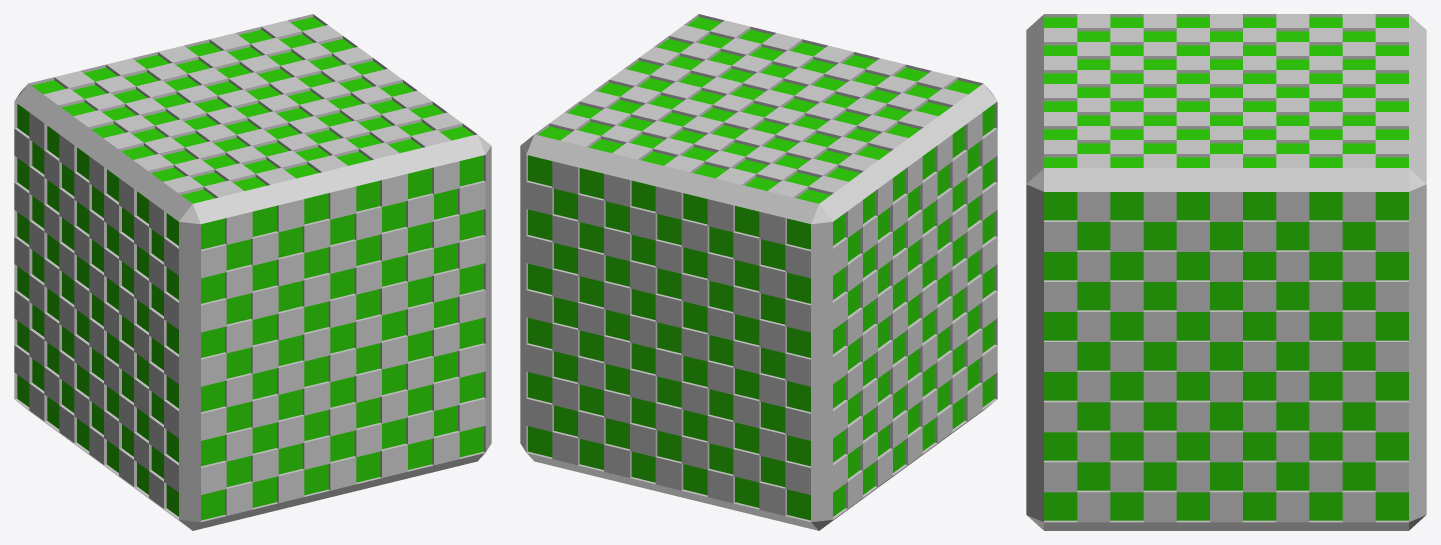
Rendered from checker.fbx.
3 renders of one model, left to right at view 1: azimuth 30°, elevation 25°; view 2: azimuth 150°, elevation 25°; view 3: azimuth 270°, elevation 25°, orthographic. The views are drawn at different scales.
Visible parts, largest first — view 1: StandardCube; view 2: StandardCube; view 3: StandardCube.
Boxes of the visible parts, left/top/right/bottom form: StandardCube: left=14, top=14, right=491, bottom=530; StandardCube: left=520, top=14, right=997, bottom=530; StandardCube: left=1026, top=14, right=1426, bottom=530.
Bounding box in the file's own units: 2 × 2 × 2.
